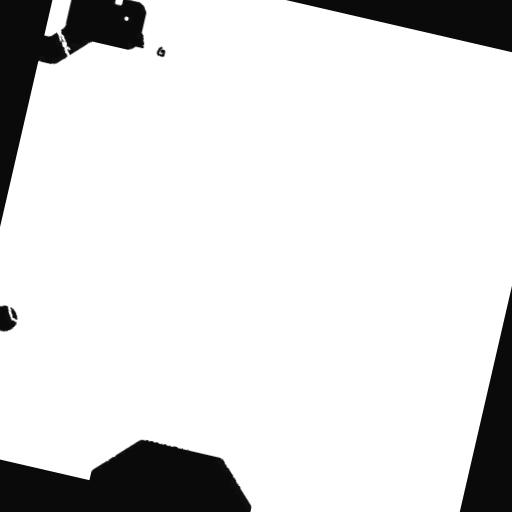copper: (146, 36, 174, 66)
mousebite: (103, 0, 133, 14)
open: (38, 18, 90, 74), (0, 294, 30, 331)
pin-hole: (114, 6, 138, 30)
spur: (122, 22, 156, 57)
